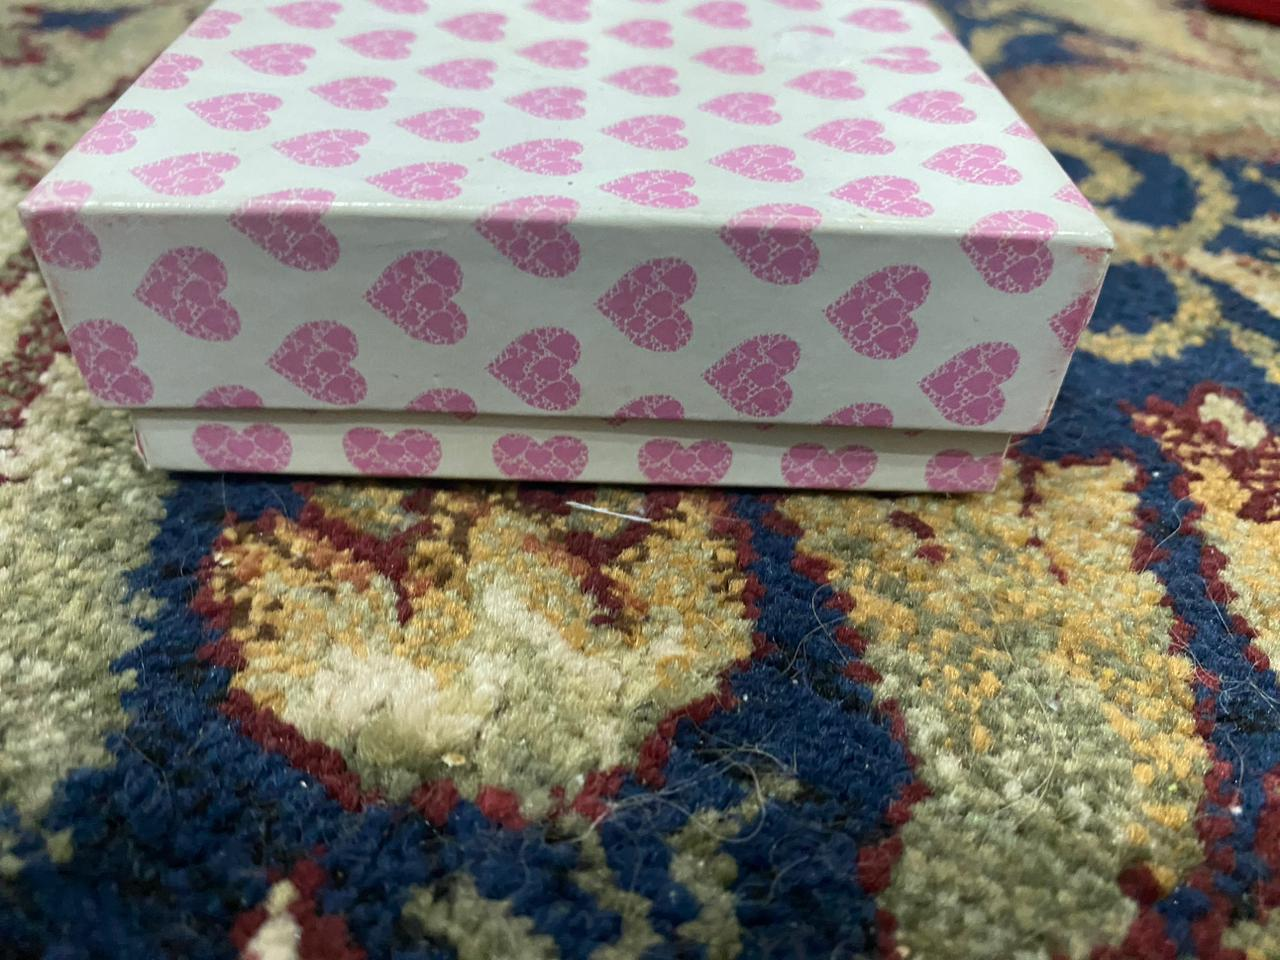Pink Box: (15, 3, 1123, 524)
